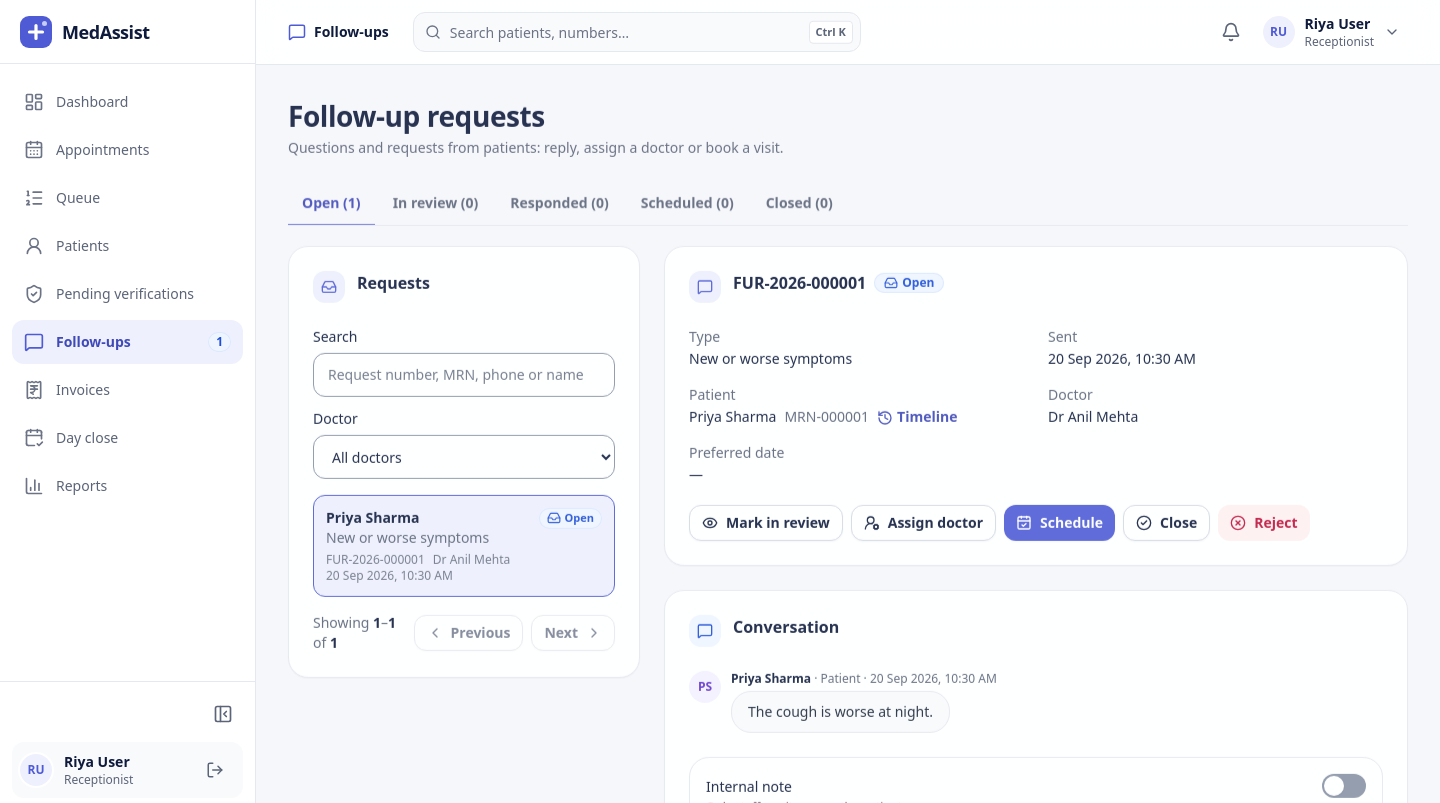
Scenario: Reception inbox › a 409 SLOT_UNAVAILABLE from booking is shown in the dialog and the request stays open
The image size is (1440, 803).
Click the button "Schedule" at (1060, 522), box [1004,504,1115,540]
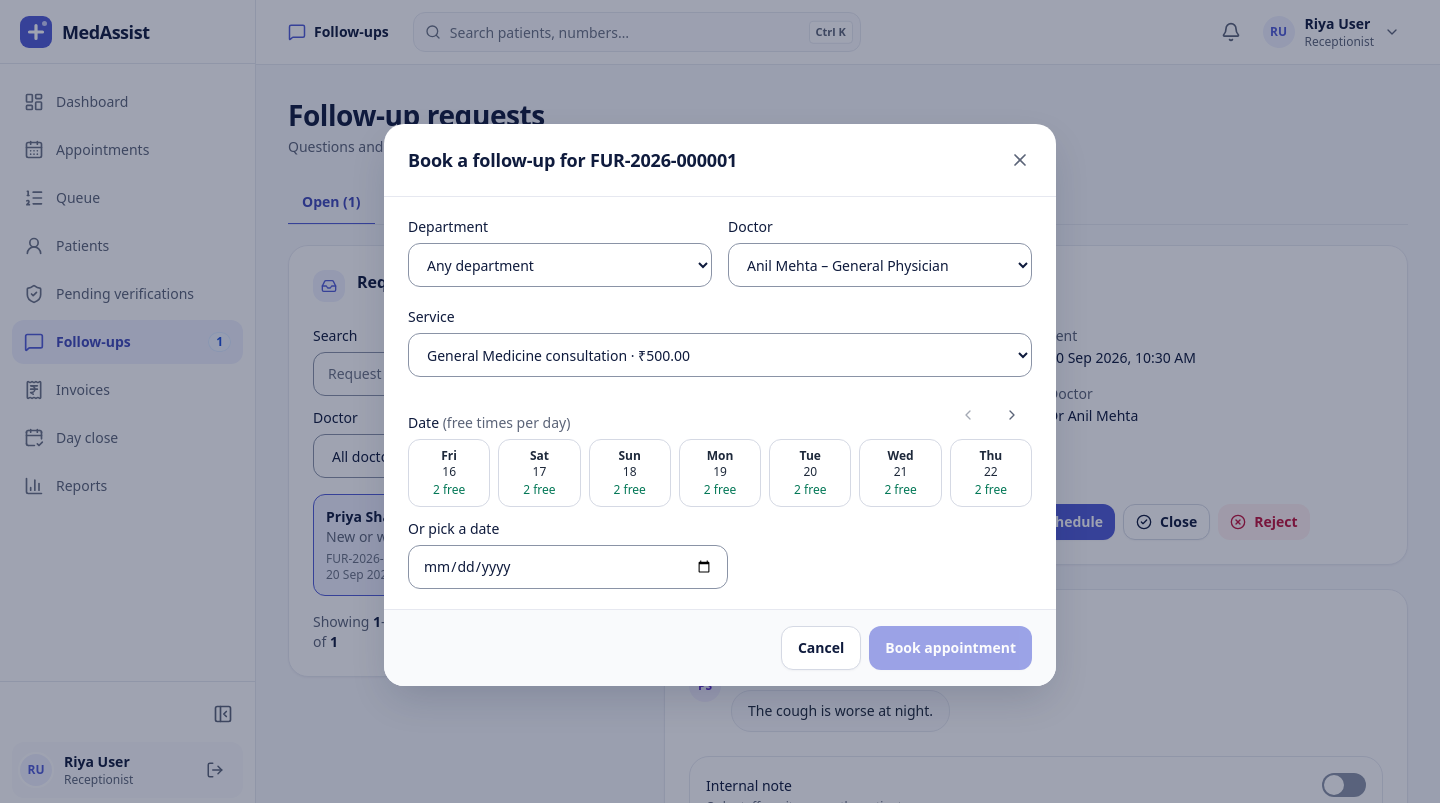
Click the radio button labelled "Sat 17 2 free" at (539, 473), box [498,439,581,507]
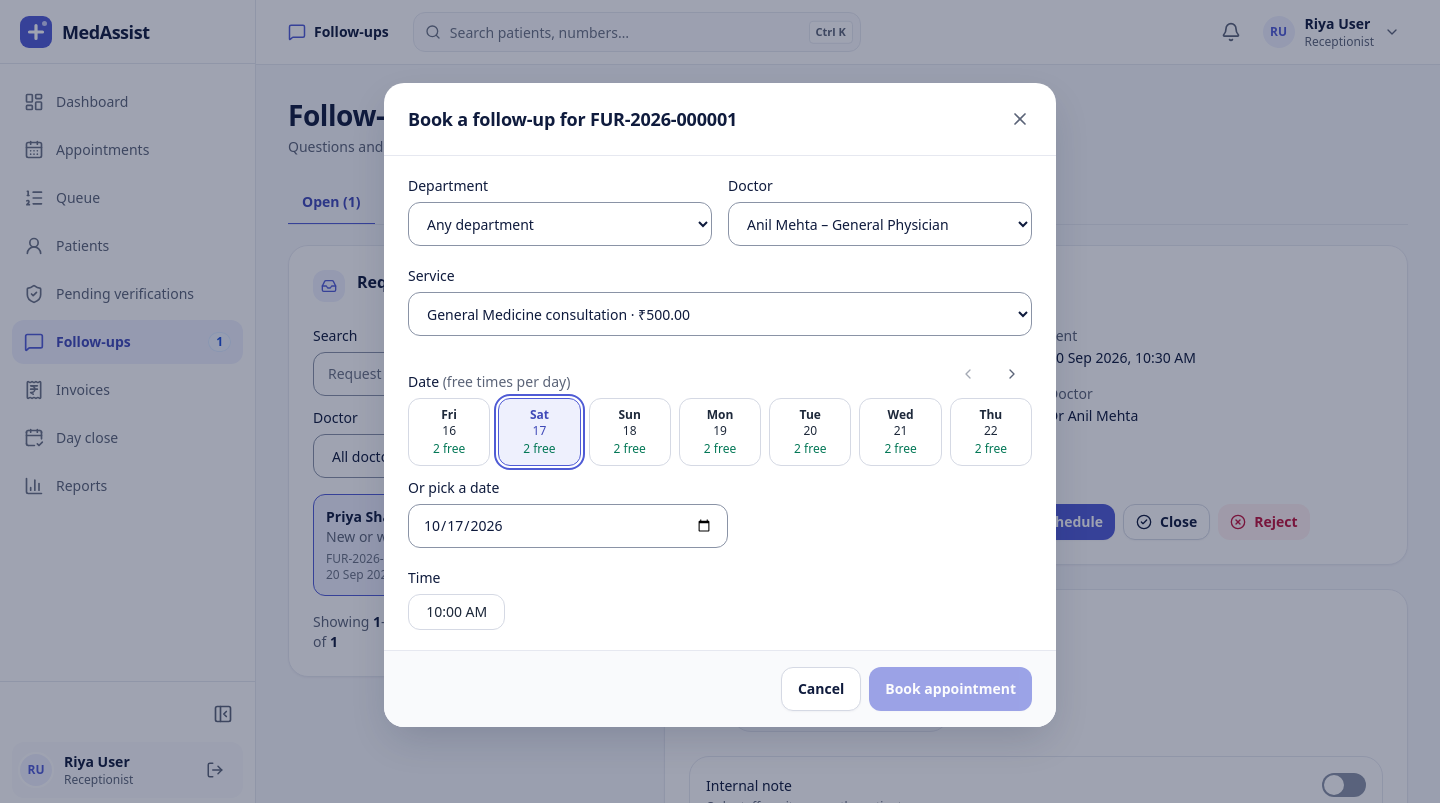
Click the radio button labelled "10:00 AM" at (457, 612), box [408,594,505,630]
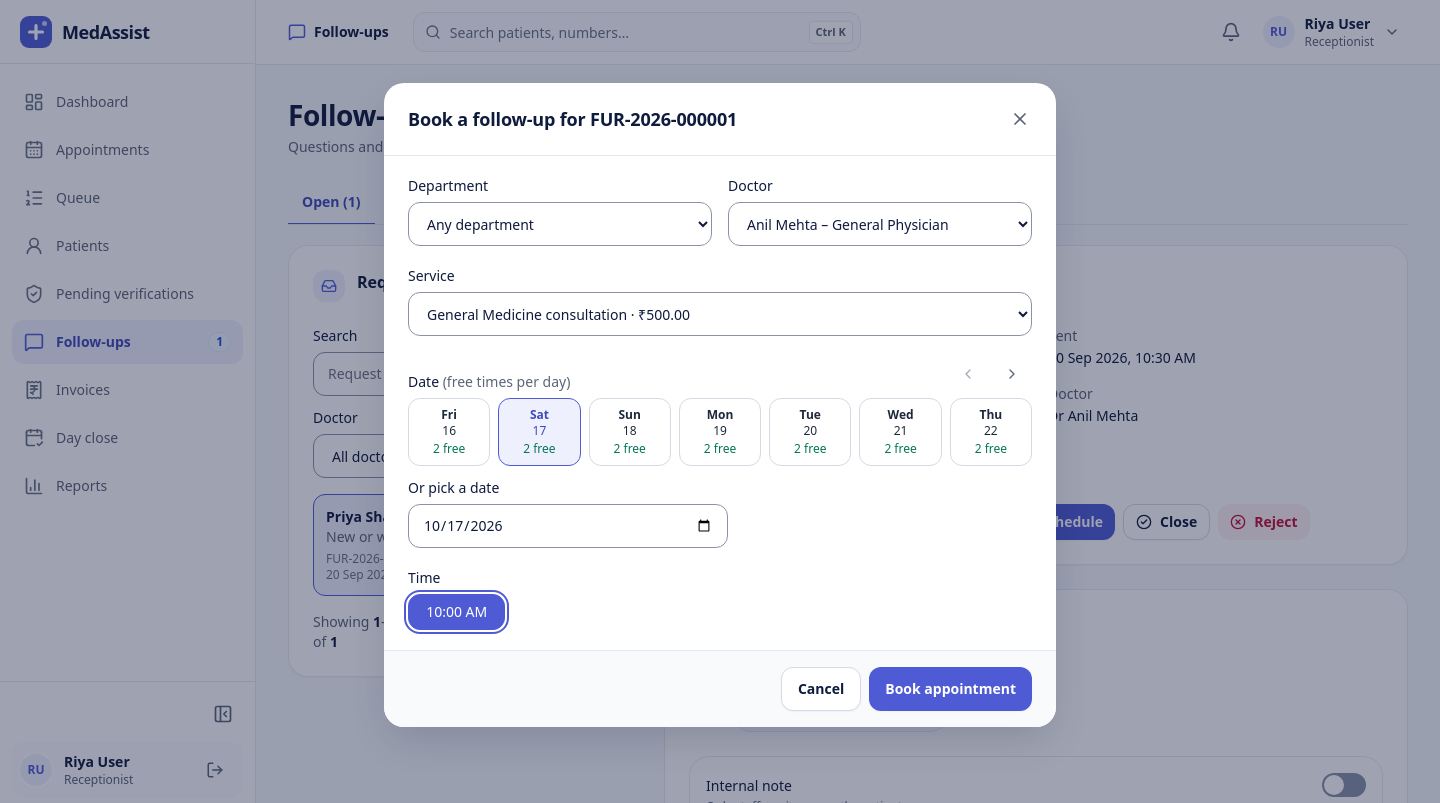
Click the button "Book appointment" at (951, 689), box [869,667,1032,711]
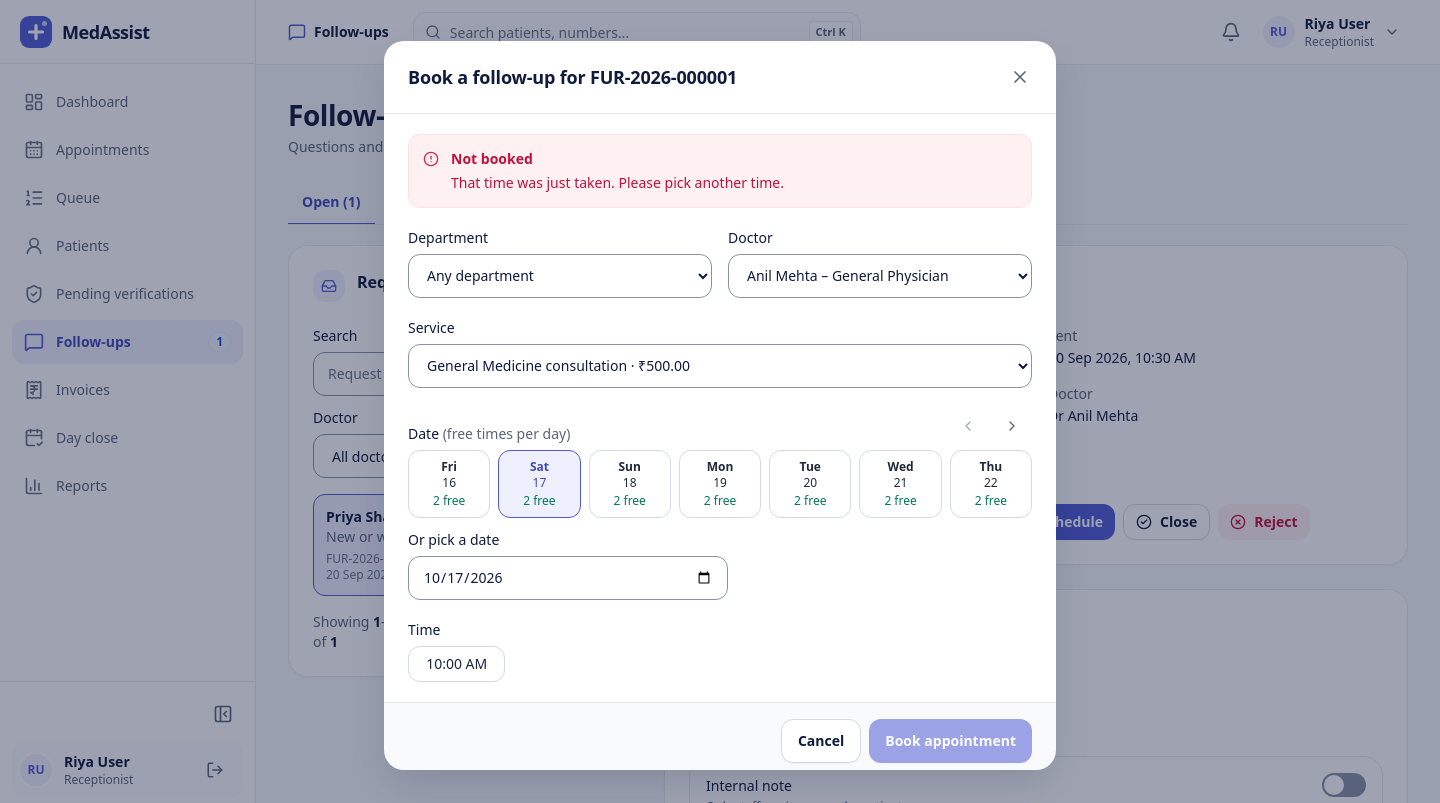
Expected: the text "Open" is shown, [538,507,602,528]
Result: the text "Not booked" is shown at [451,148,533,168]
Result: the text "That time was just taken. Please pick another time." is shown at [451,172,784,192]
